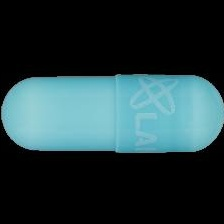0527-1383: (0, 0, 224, 224)
